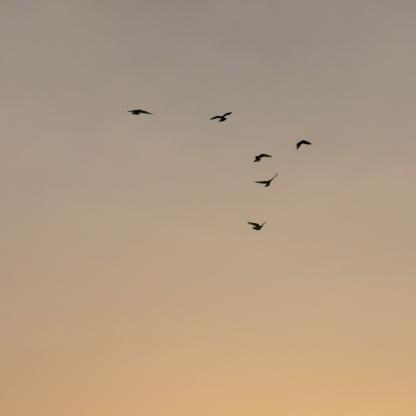bird: (255, 173, 278, 187), (210, 112, 232, 121), (296, 140, 312, 152), (247, 221, 268, 230), (127, 109, 155, 115), (255, 154, 272, 162)
